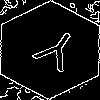Y: (25, 25, 85, 81)
